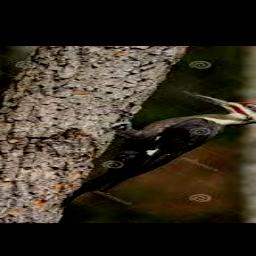Woodpecker: (61, 91, 256, 207)
